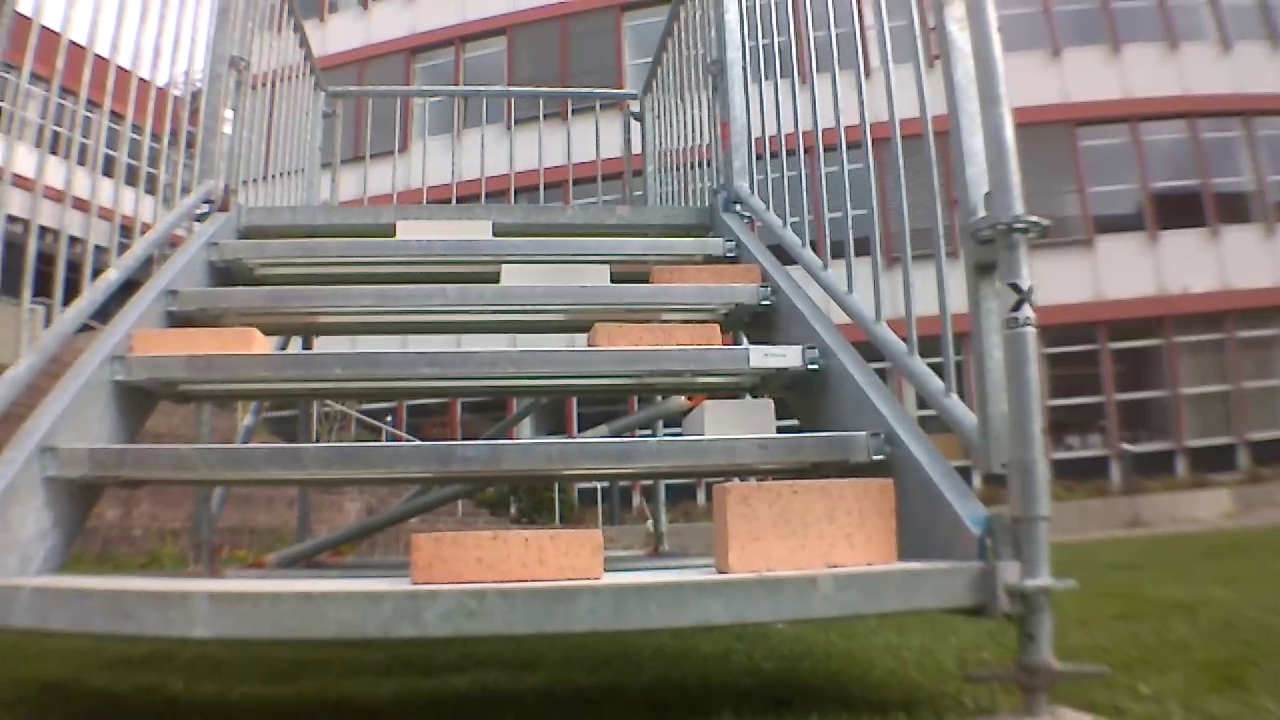brick: (716, 473, 905, 583), (408, 520, 610, 581), (122, 322, 276, 360), (650, 258, 763, 288), (691, 396, 774, 435), (594, 321, 722, 344), (395, 213, 494, 242), (499, 261, 616, 283)
edge: (0, 559, 993, 636), (45, 425, 887, 480), (90, 342, 829, 382), (156, 281, 779, 313), (201, 234, 749, 261), (241, 202, 720, 227)
stairs: (0, 0, 1050, 708)
steps: (0, 195, 1004, 640)
